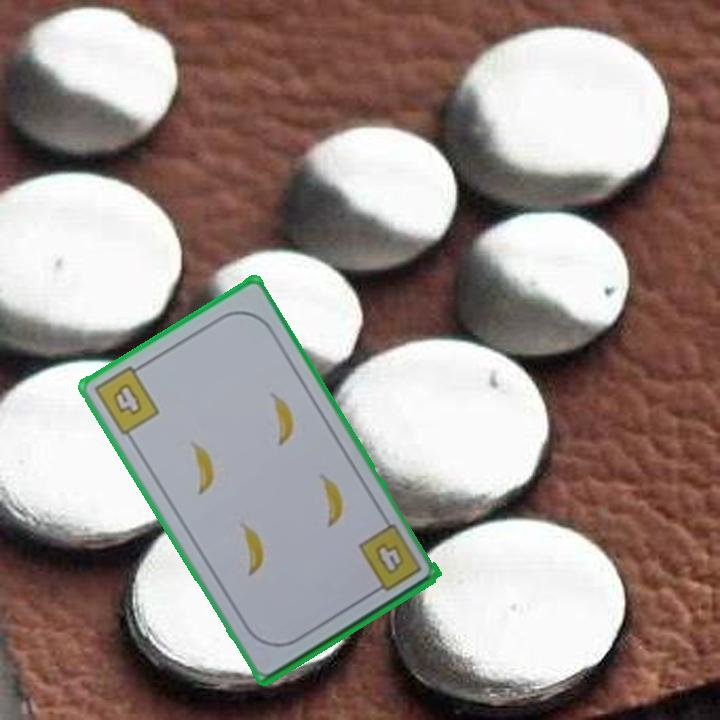4b: (90, 359, 162, 438), (372, 538, 403, 574)
